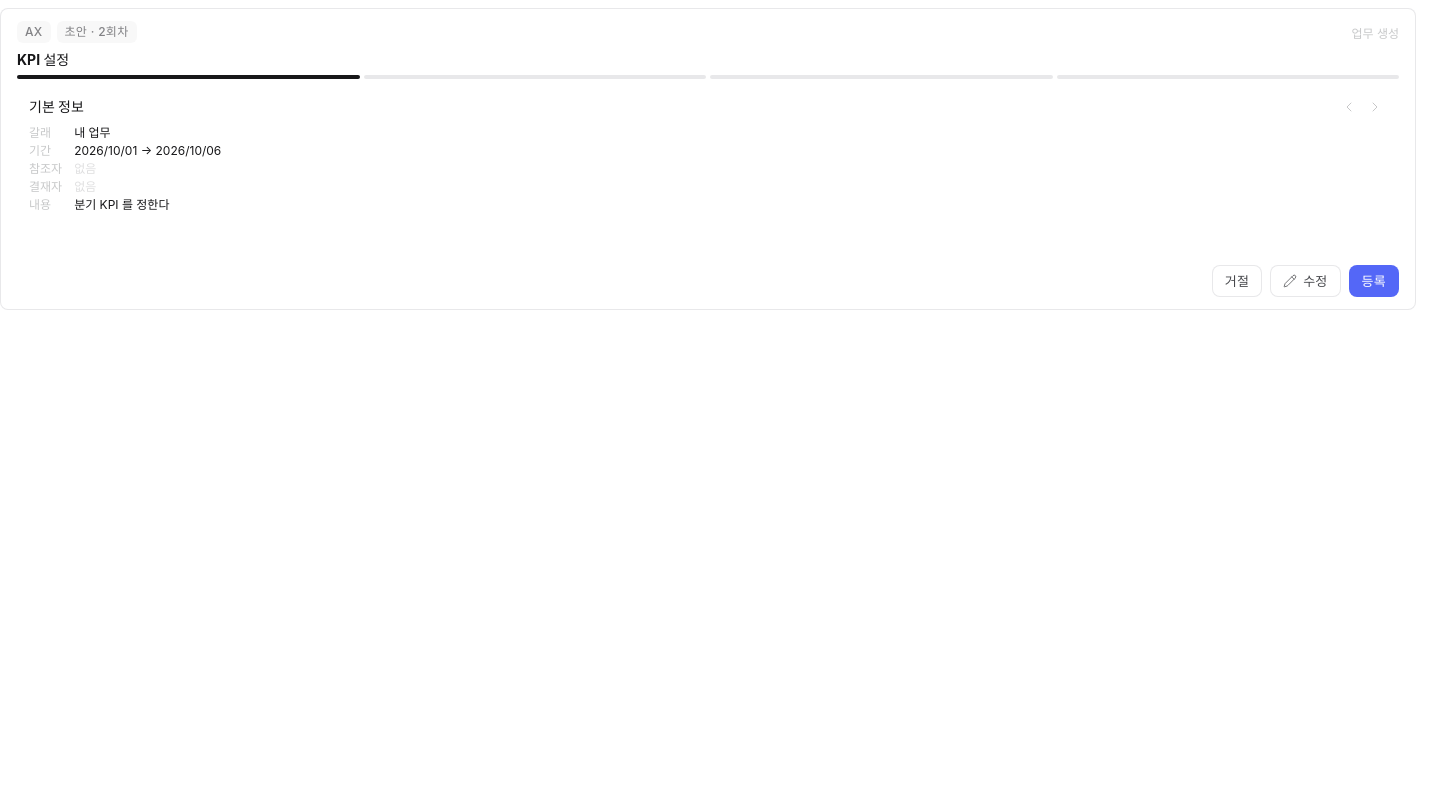
Test: 수정 창의 주 단추 = 「저장」 › 저장이 실패하면 문구가 창 안에 서고 고친 값이 남는다 — 낡음도 서버 문장 그대로
Click the button "수정". click: coordinates (1305, 281)
box: [1270,265,1341,297]
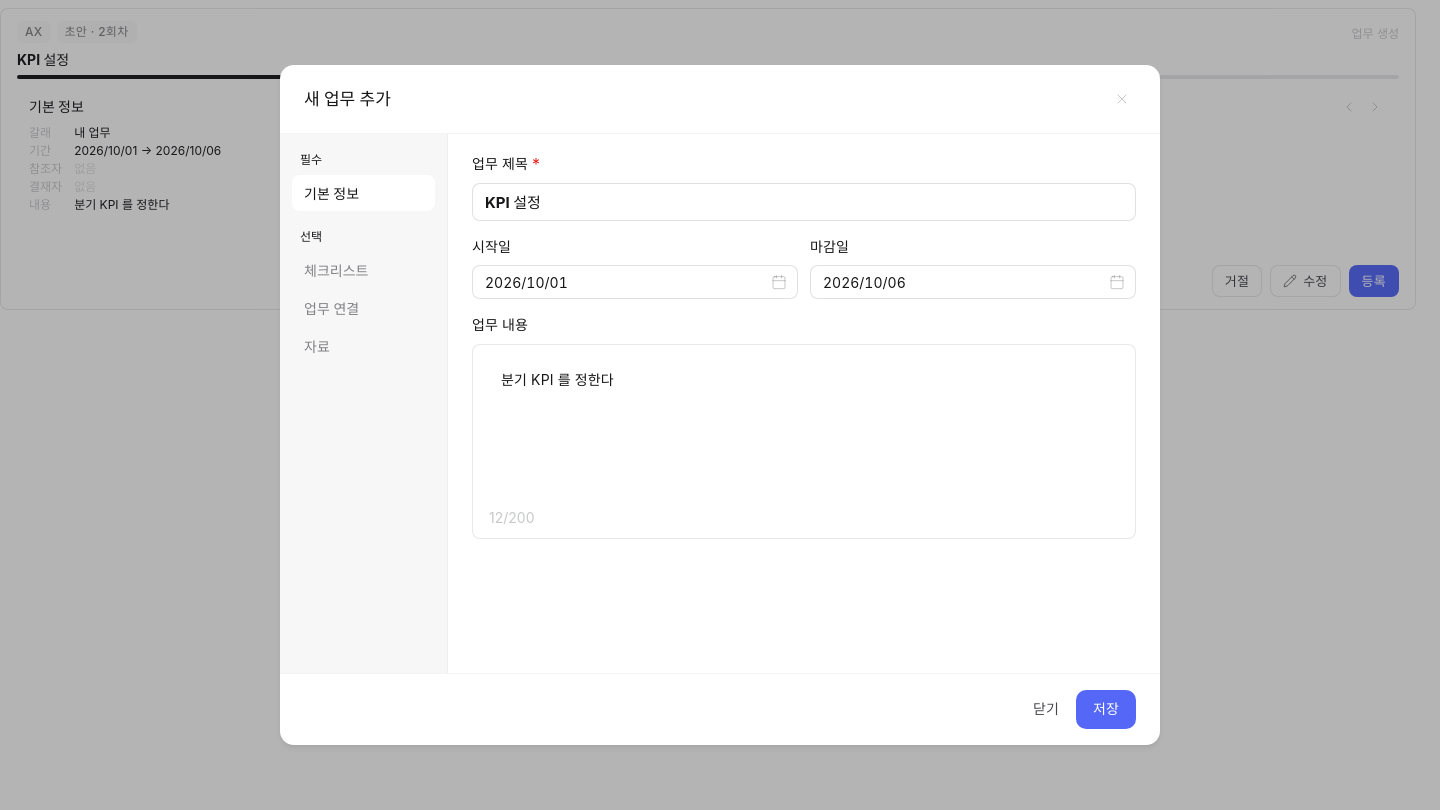
Replace the text in the field labelled "업무 제목" with "남아야 할 고침". click: coordinates (804, 202)
box: [472,182,1136,220]
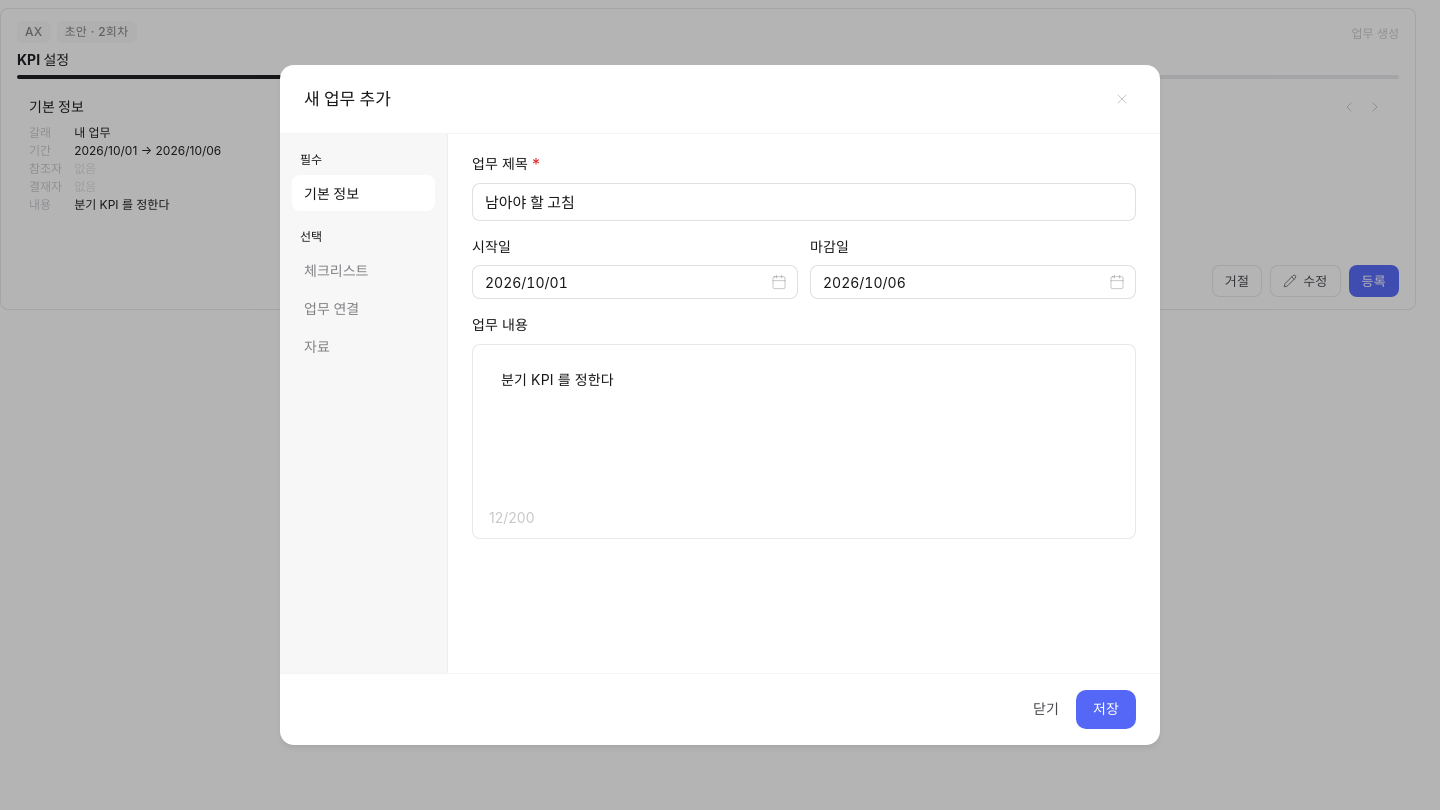
Click the button "저장". click: coordinates (1106, 710)
box: [1076,690,1136,729]
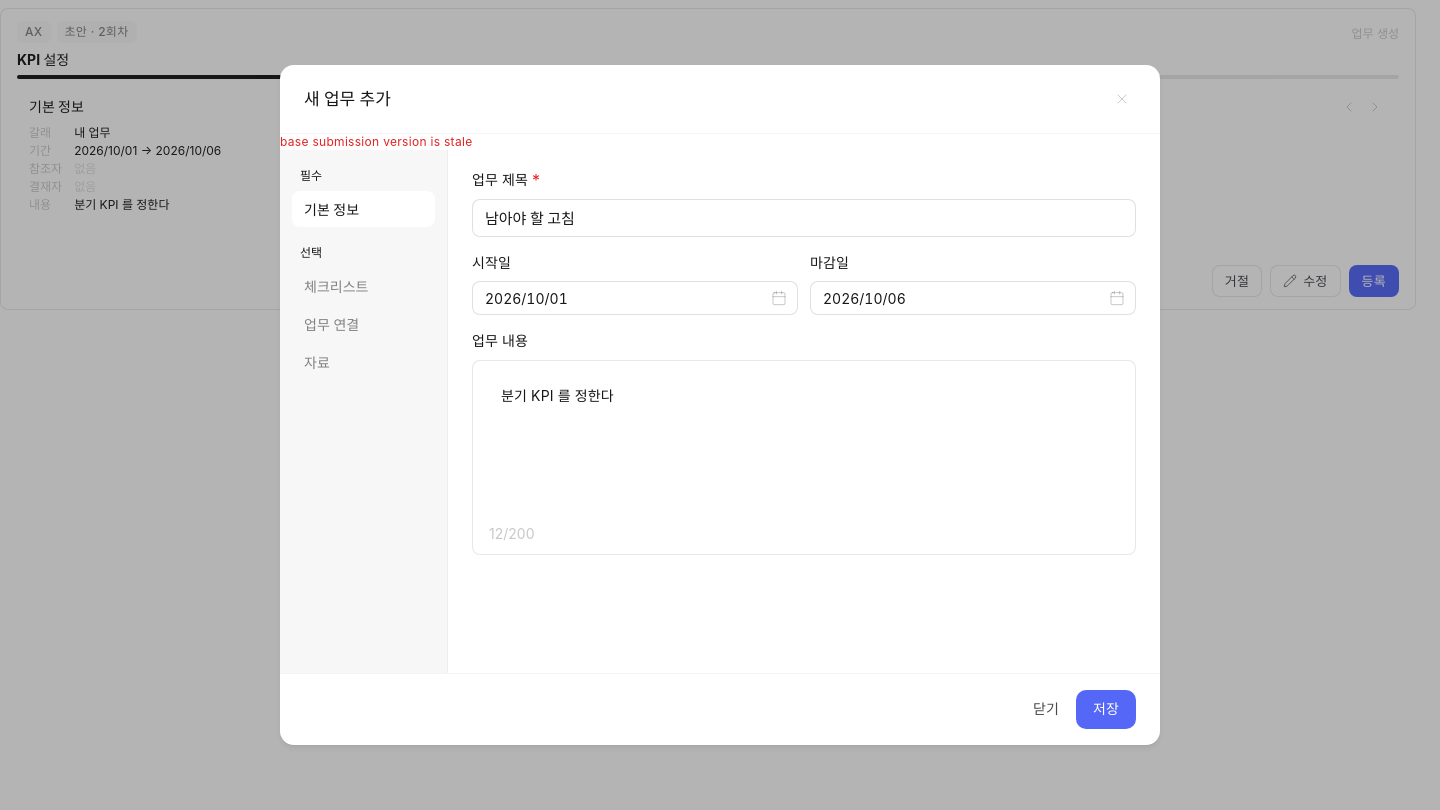
Now the dialog "새 업무 추가" is shown, box [280,65,1160,745]
Now the text "base submission version is stale" is shown, box [280,134,472,149]
